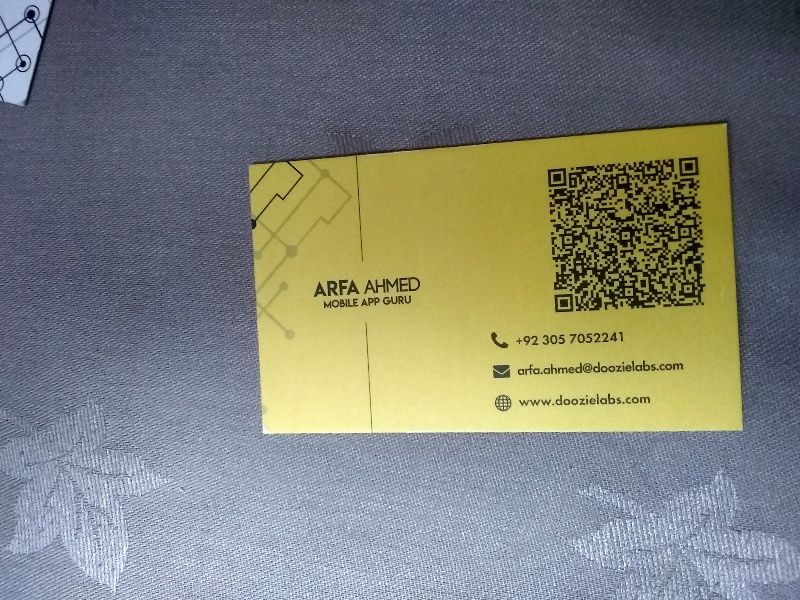front: (243, 118, 747, 440)
